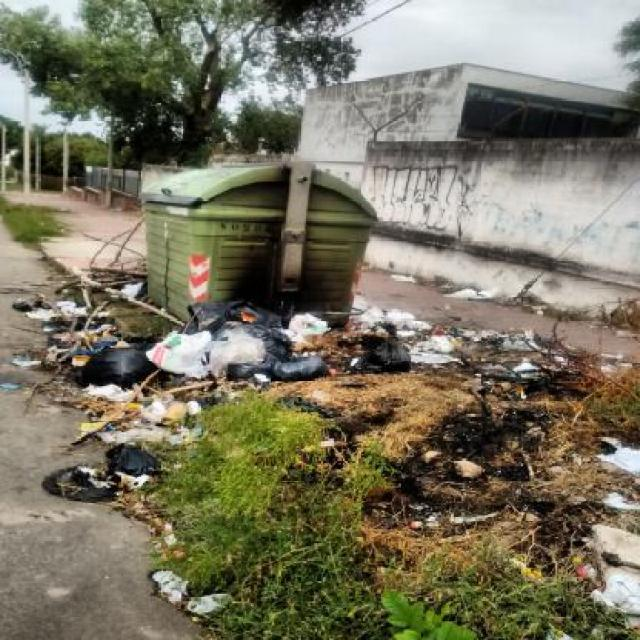garbage: (6, 277, 450, 521), (293, 334, 579, 508)
